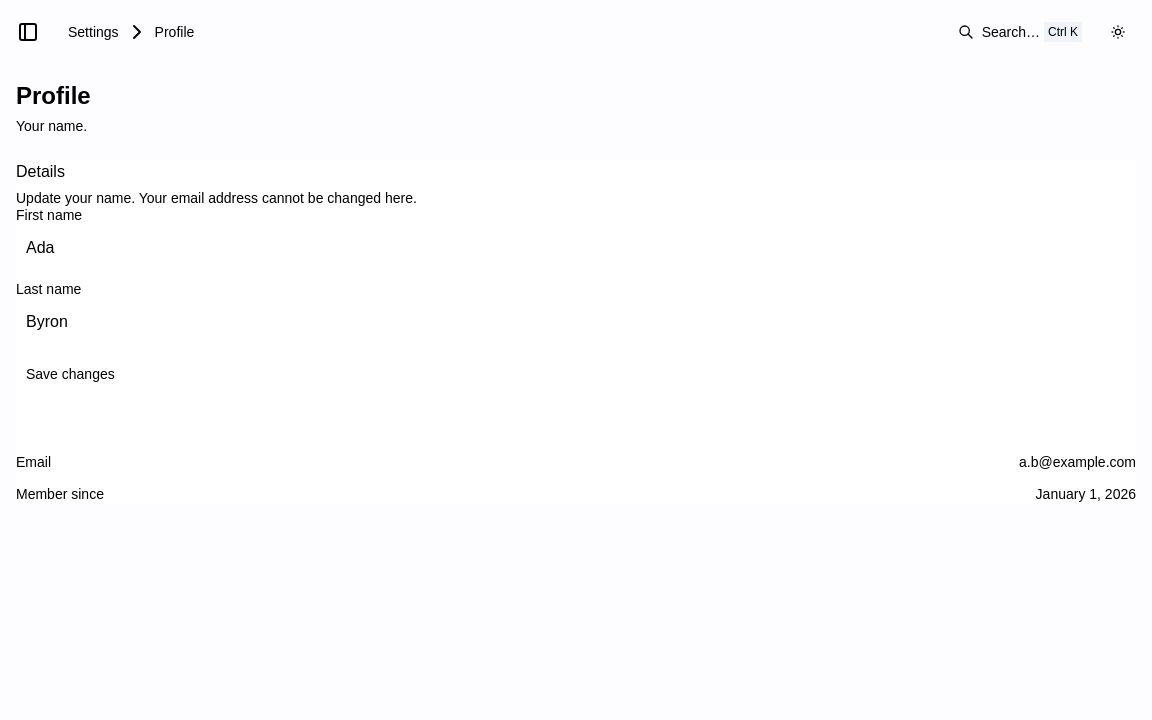
Scenario: profile page › shows a legacy first name as invalid once the user edits it, and sends nothing
Type "m" into the field labelled "First name" at [576, 248], box x1=16 y1=230 x2=1136 y2=266
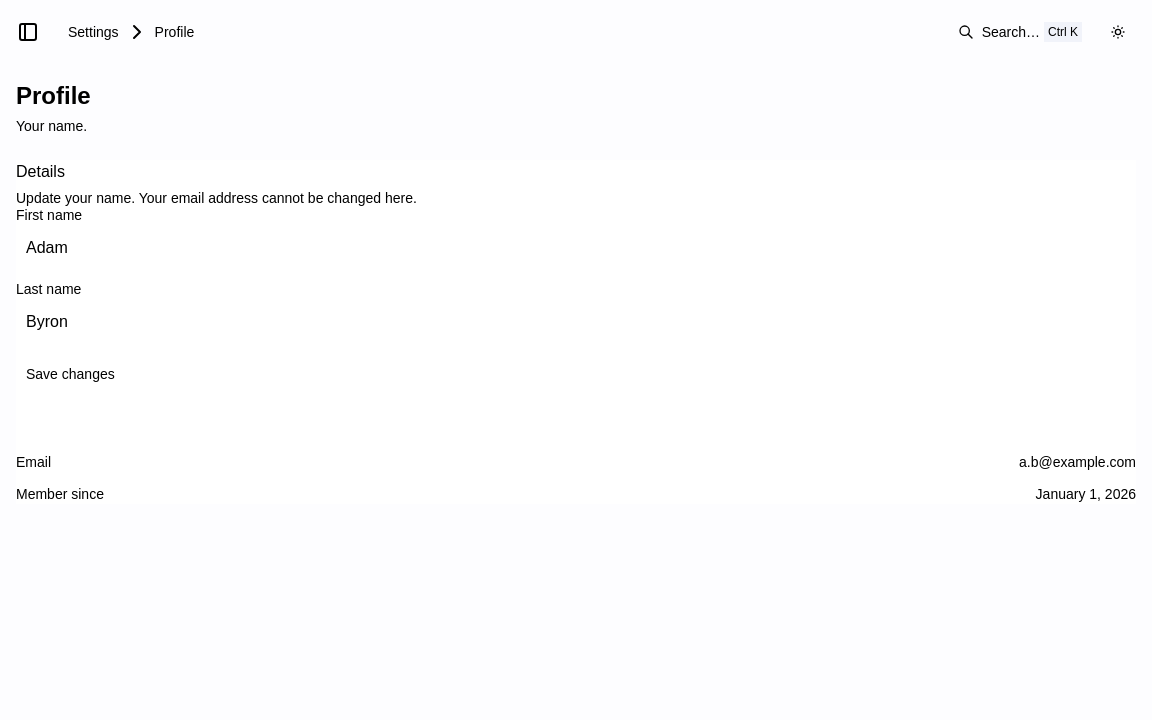
Click the button "Save changes" at [70, 374], box x1=16 y1=356 x2=125 y2=392
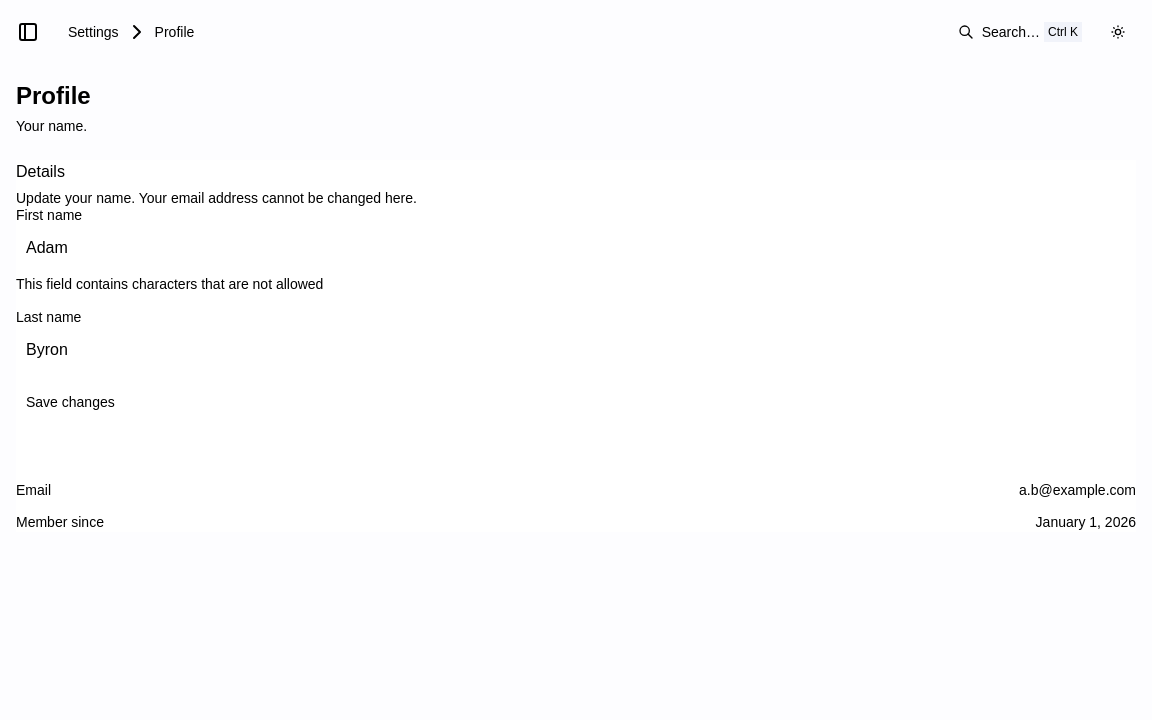
Expected: the text "This field contains characters that are not allowed" is shown, x1=16 y1=276 x2=323 y2=292
